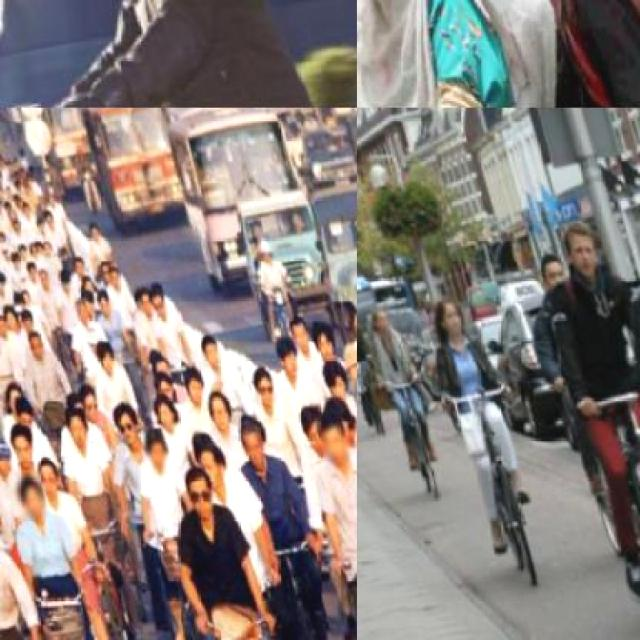With Helmet: (250, 228, 279, 264)
Without Helmet: (554, 210, 608, 285), (168, 458, 218, 520), (307, 408, 348, 474), (421, 290, 472, 342), (1, 468, 45, 522), (54, 407, 91, 458), (135, 427, 170, 475), (360, 299, 392, 336), (344, 374, 356, 437)
